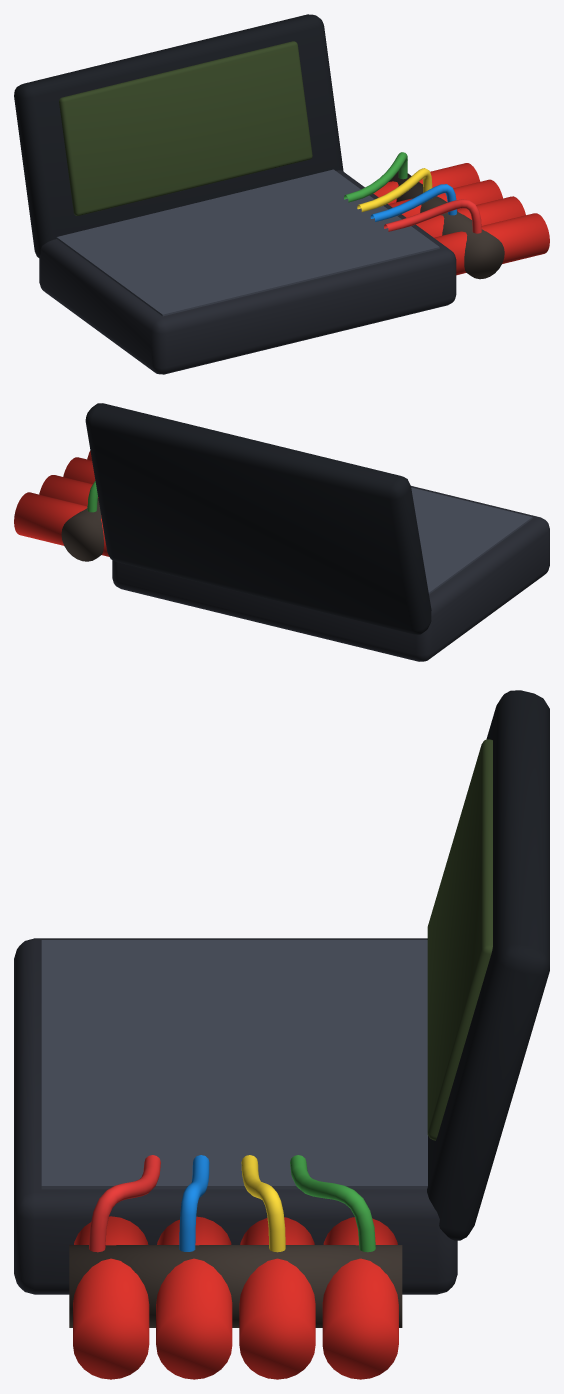
Rendered from bomba.glb.
The picture shows the model from 3 angles, top to bottom: view 1: azimuth 30°, elevation 25°; view 2: azimuth 150°, elevation 25°; view 3: azimuth 270°, elevation 25°; orthographic projection. The views are drawn at different scales.
Visible parts, largest first — view 1: moldura_lcd, painel, maleta, tampa, dinamite_b0, fita_dinamite, dinamite_b1, dinamite_b3, fio_bomba0, dinamite_b2, fio_bomba1, fio_bomba2 (+1 smaller); view 2: tampa, maleta, painel, dinamite_b3, fita_dinamite, dinamite_b2, dinamite_b1; view 3: painel, tampa, maleta, moldura_lcd, fita_dinamite, dinamite_b0, dinamite_b1, dinamite_b3, dinamite_b2, fio_bomba3, fio_bomba0, fio_bomba2 (+1 smaller).
Part boxes in pixels (x1,y1,x2,y2): moldura_lcd: (59,41,312,215); painel: (56,169,439,316); maleta: (39,170,456,374); tampa: (14,14,343,257); dinamite_b0: (434,213,549,275); fita_dinamite: (389,171,504,279); dinamite_b1: (416,196,525,237); dinamite_b3: (373,163,480,204); fio_bomba0: (384,199,481,233); dinamite_b2: (388,179,502,217); fio_bomba1: (370,184,456,221); fio_bomba2: (357,168,432,212); tampa: (85,403,431,634); maleta: (112,486,549,661); painel: (411,487,532,594); dinamite_b3: (14,492,109,556); fita_dinamite: (61,498,103,561); dinamite_b2: (39,475,98,505); dinamite_b1: (63,457,95,484); painel: (41,940,427,1189); tampa: (427,690,549,1240); maleta: (14,938,457,1294); moldura_lcd: (427,739,492,1140); fita_dinamite: (69,1245,402,1327); dinamite_b0: (73,1216,149,1379); dinamite_b1: (156,1216,232,1379); dinamite_b3: (322,1217,398,1379); dinamite_b2: (239,1217,315,1379); fio_bomba3: (290,1155,375,1252); fio_bomba0: (89,1155,160,1252); fio_bomba2: (241,1155,285,1252).
Bounding box in the file's own units: 1.24 × 0.5544 × 0.773.
